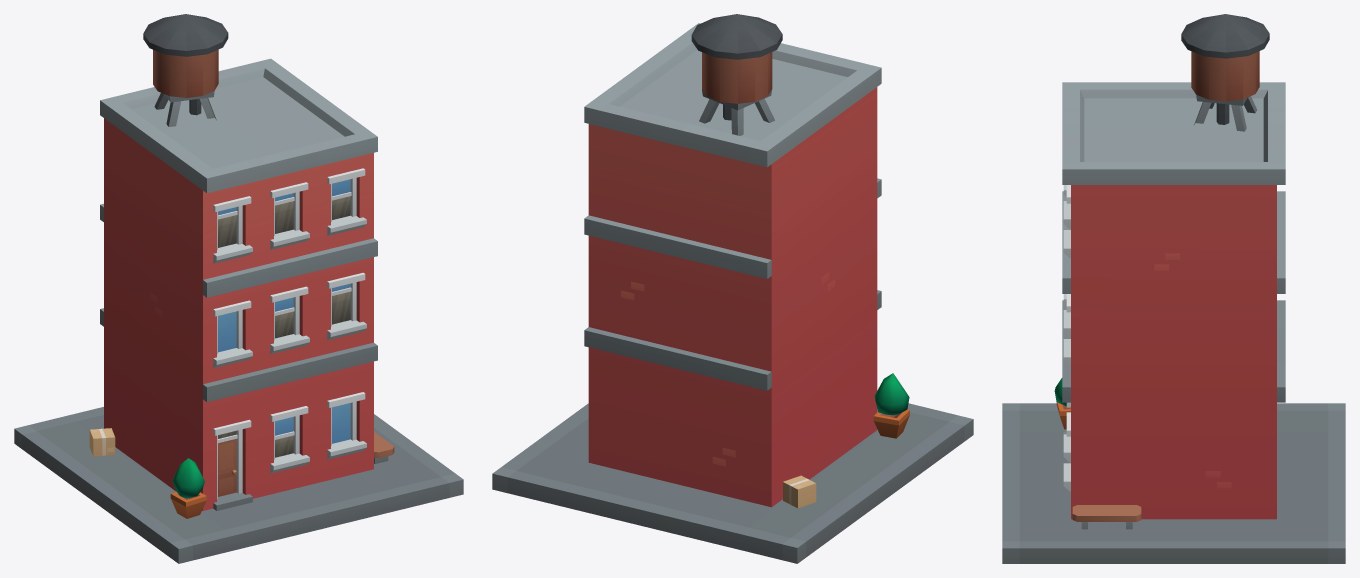
File: shop-red.glb
3 views of the same model, side by side, from view 1: azimuth 30°, elevation 25°; view 2: azimuth 150°, elevation 25°; view 3: azimuth 270°, elevation 25° (orthographic). The views are drawn at different scales.
Visible parts, largest first — view 1: building_C; view 2: building_C; view 3: building_C.
Boxes of the visible parts, x1=… form: building_C: x1=14, y1=14, x2=463, y2=563; building_C: x1=492, y1=14, x2=973, y2=563; building_C: x1=1002, y1=14, x2=1345, y2=563.
Size of the model in its own units: 2 by 2.98 by 2.
Materials: 1 (1 with a texture image).
